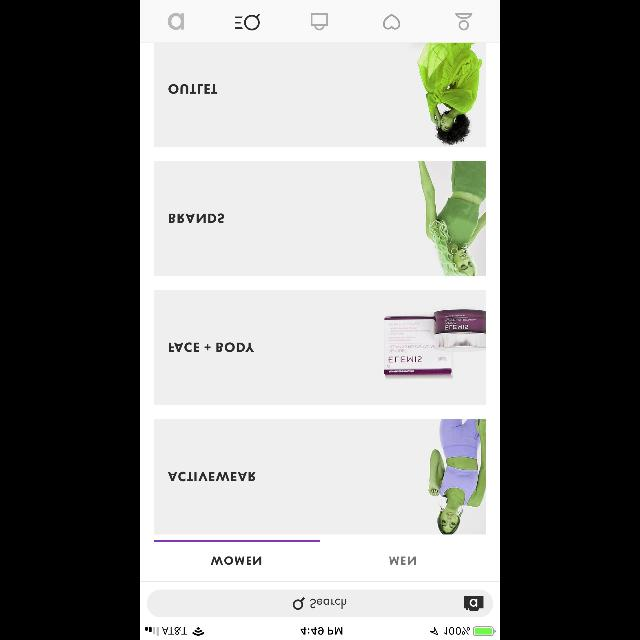icon: (236, 14, 260, 31), (310, 14, 328, 31), (384, 14, 401, 30), (456, 14, 472, 31), (293, 596, 305, 610)
image: (418, 162, 486, 276), (384, 308, 486, 379), (416, 43, 482, 147), (428, 420, 486, 534), (464, 596, 484, 610)
input: (147, 589, 493, 617)
text: (168, 472, 256, 482), (170, 342, 254, 352), (169, 213, 225, 223), (168, 84, 218, 94), (210, 556, 262, 564), (310, 599, 346, 609), (168, 12, 185, 30), (390, 556, 416, 564)
uppertaskbar: (140, 626, 500, 640)
